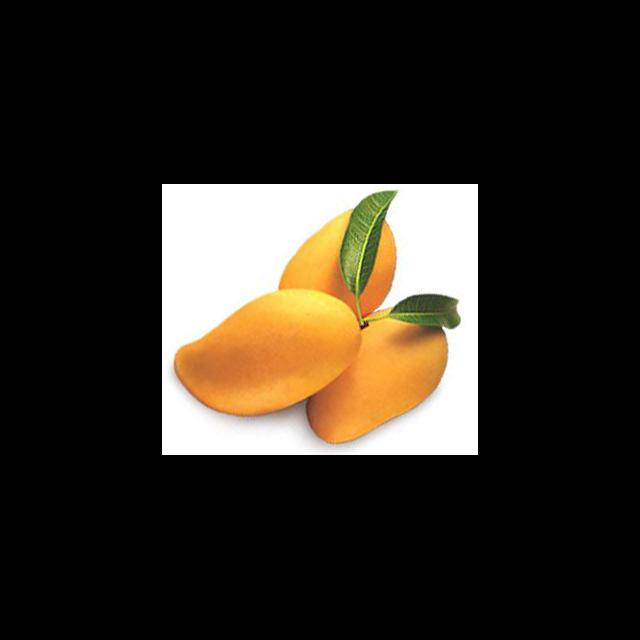mango: (173, 288, 363, 418), (306, 320, 449, 444), (277, 210, 397, 318)
